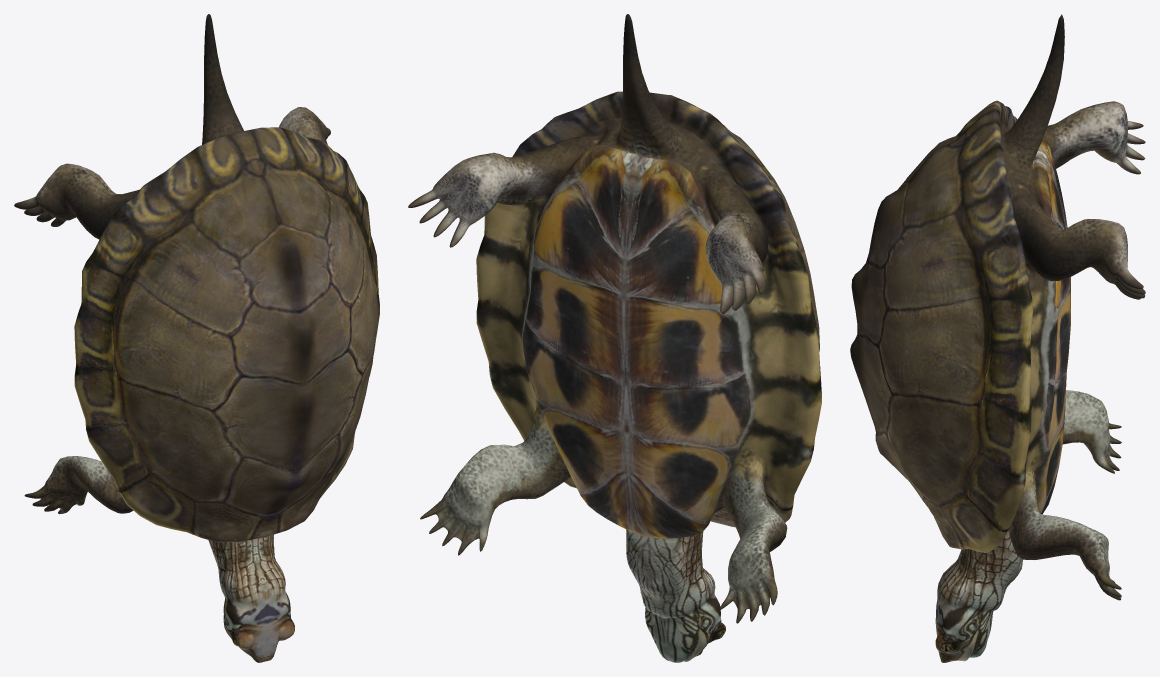
The model's file is tortoise.obj.
3 renders of one model, left to right at view 1: azimuth 30°, elevation 25°; view 2: azimuth 150°, elevation 25°; view 3: azimuth 270°, elevation 25°, orthographic. The views are drawn at different scales.
Visible parts, largest first — view 1: tortoise; view 2: tortoise; view 3: tortoise.
Part boxes in pixels (x1=…): tortoise: x1=14, y1=14, x2=379, y2=662; tortoise: x1=408, y1=14, x2=821, y2=662; tortoise: x1=850, y1=14, x2=1145, y2=662.
Bounding box in the file's own units: 10.21 × 18.86 × 7.82.
Materials: 1 (1 with a texture image).
